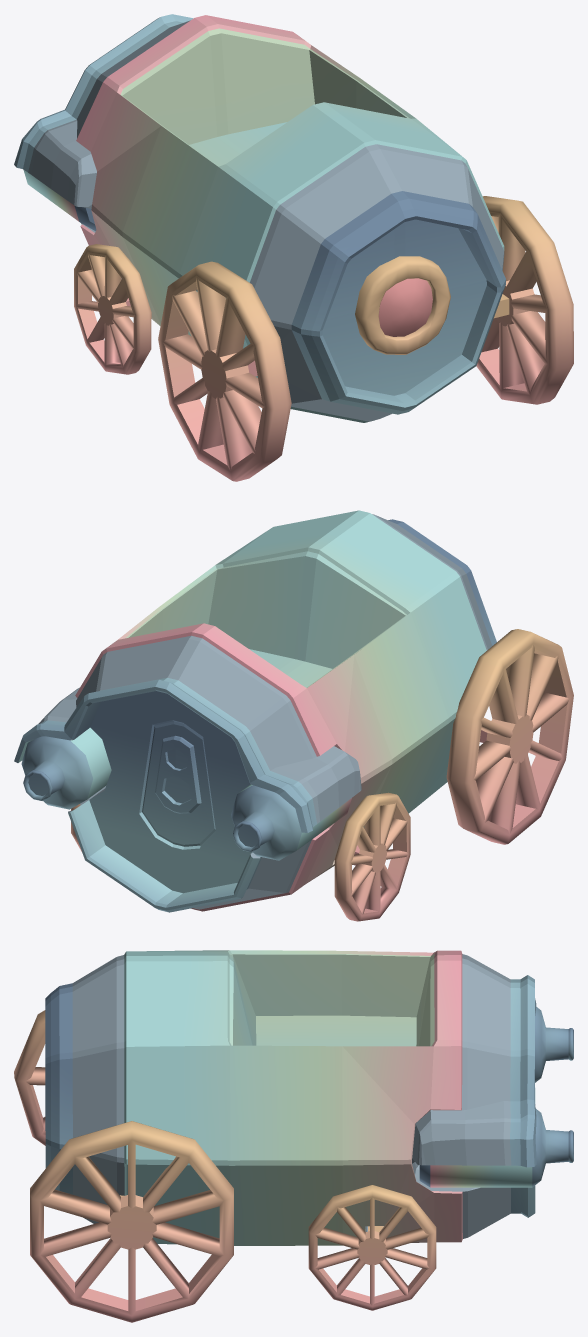
The model's file is can_kart_v17_(Texturé).fbx.
3 views of the same model, one above another, from view 1: azimuth 30°, elevation 25°; view 2: azimuth 150°, elevation 25°; view 3: azimuth 270°, elevation 25° (orthographic).
Parts seen in each view (by area): view 1: Circle.023, Wheel.L, Wheel.L.001, Circle.019, Circle.018; view 2: Circle.023, Wheel.L, Circle.018, Wheel.L.001; view 3: Circle.023, Wheel.L, Wheel.L.002, Circle.018.
Part boxes in pixels (bbox=[...]): Circle.023: bbox=[14, 14, 505, 422]; Wheel.L: bbox=[158, 196, 573, 481]; Wheel.L.001: bbox=[74, 244, 151, 374]; Circle.019: bbox=[355, 256, 450, 354]; Circle.018: bbox=[23, 169, 96, 231]; Circle.023: bbox=[14, 510, 496, 912]; Wheel.L: bbox=[446, 629, 573, 844]; Circle.018: bbox=[21, 727, 351, 860]; Wheel.L.001: bbox=[334, 792, 410, 921]; Circle.023: bbox=[45, 950, 536, 1245]; Wheel.L: bbox=[14, 1010, 233, 1322]; Wheel.L.002: bbox=[308, 1185, 436, 1310]; Circle.018: bbox=[419, 1007, 573, 1187].
Bounding box in the file's own units: 110 × 98.2 × 171.
